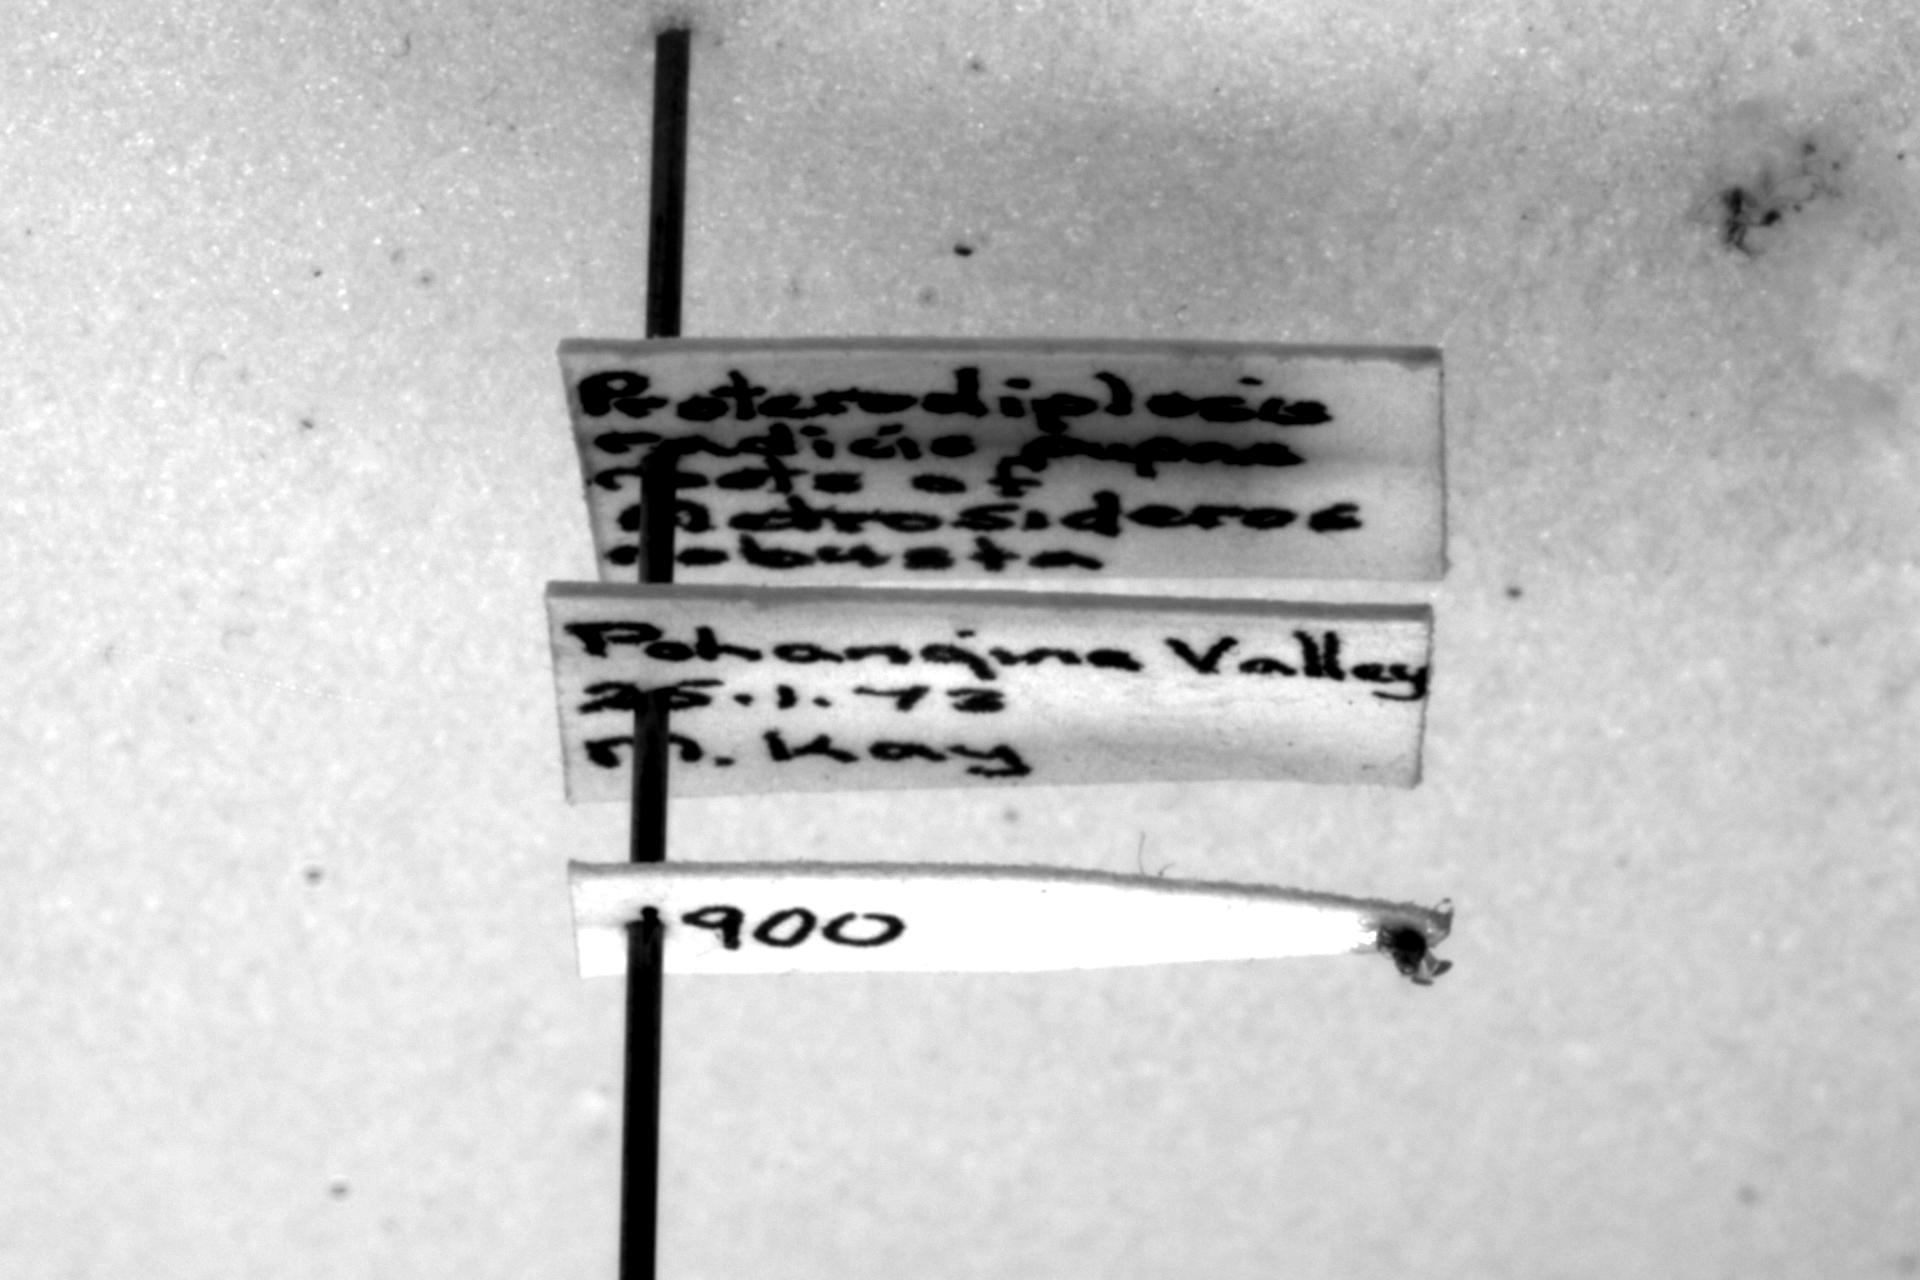hand_label: (559, 337, 1447, 586), (547, 581, 1433, 803)
